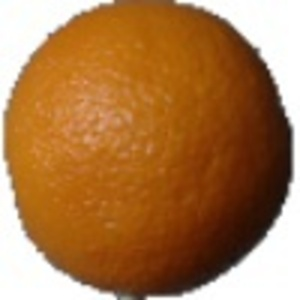laranja: (4, 3, 294, 297)
